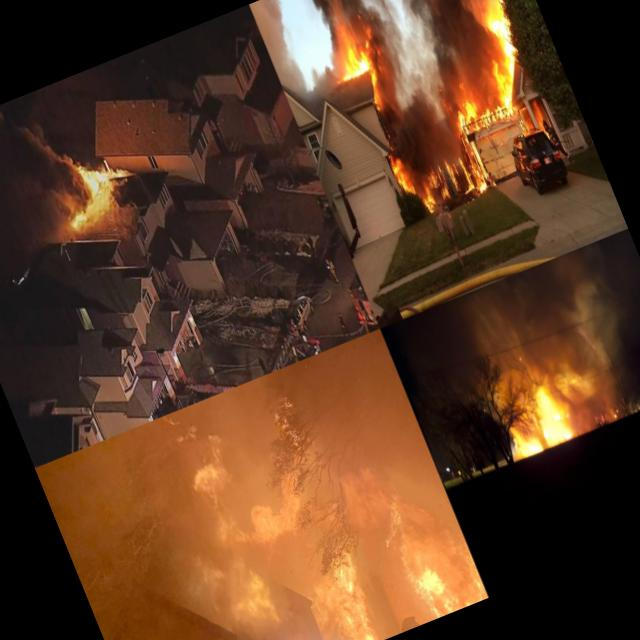fire: (169, 430, 395, 640), (363, 451, 489, 624), (141, 396, 238, 489), (494, 370, 584, 459), (410, 143, 494, 216), (480, 0, 525, 68), (488, 62, 528, 123), (557, 358, 603, 411), (74, 150, 119, 196), (450, 93, 493, 138), (336, 44, 384, 84), (383, 145, 418, 198), (62, 204, 90, 232), (485, 102, 509, 127)
smoke: (34, 424, 246, 640), (460, 262, 587, 395), (547, 241, 640, 397), (375, 1, 505, 106), (214, 356, 338, 464), (0, 114, 93, 228), (381, 88, 466, 172), (249, 0, 316, 106), (304, 0, 408, 60), (377, 0, 503, 30), (306, 59, 346, 96), (472, 70, 502, 110)
